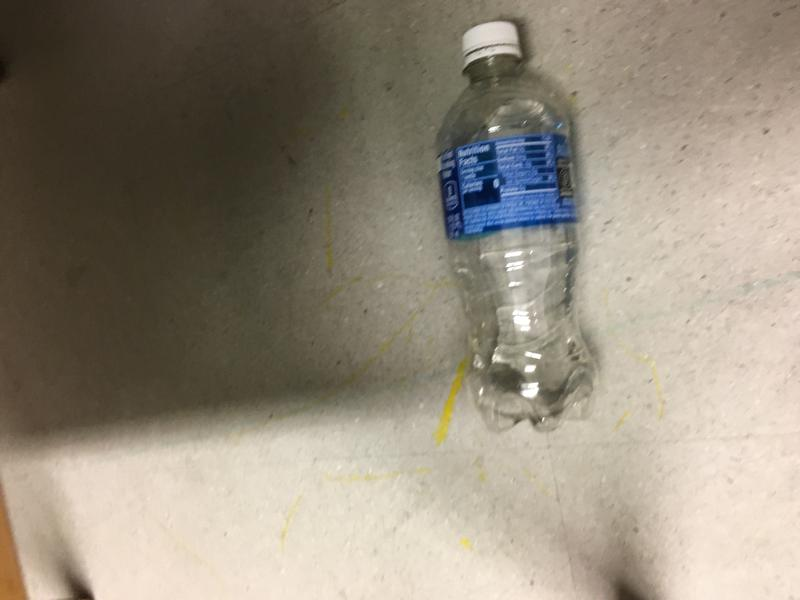bottle: (432, 19, 602, 437)
